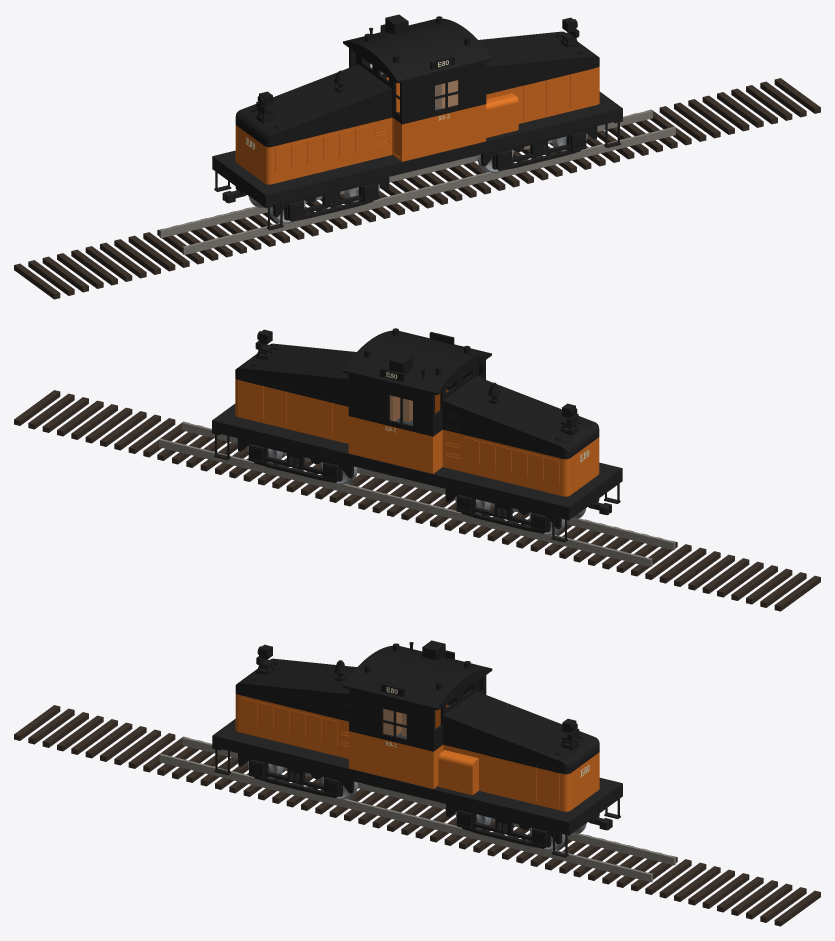
File: MILW_ES2_Main_E80.glb
3 renders of one model, top to bottom at view 1: azimuth 30°, elevation 25°; view 2: azimuth 150°, elevation 25°; view 3: azimuth 330°, elevation 25°, orthographic.
Visible parts, largest first — view 1: ties, high, low, frame, rails, roof, trucks, lights, wheels; view 2: ties, high, low, frame, rails, roof, trucks, lights, wheels, glass; view 3: ties, high, low, frame, rails, roof, trucks, lights, wheels.
Boxes of the visible parts, x1,y1,x2,y2 form: ties: (14,78,820,299); high: (235,31,599,147); low: (235,66,599,184); frame: (212,91,622,230); rails: (159,110,675,254); roof: (343,14,492,83); trucks: (273,126,597,221); lights: (256,17,579,120); wheels: (248,133,587,223); ties: (14,390,820,611); high: (235,343,599,459); low: (235,378,599,496); frame: (212,404,622,542); rails: (159,422,675,566); roof: (342,328,491,395); trucks: (237,438,561,533); lights: (255,329,578,432); wheels: (247,445,586,535); glass: (390,395,412,425); ties: (14,705,820,926); high: (235,658,599,774); low: (235,693,599,811); frame: (212,719,622,857); rails: (159,737,675,882); roof: (343,640,492,710); trucks: (238,753,562,848); lights: (256,644,579,747); wheels: (247,761,586,850).
Bounding box in the file's own units: 0.8656 × 0.1712 × 0.1081.
